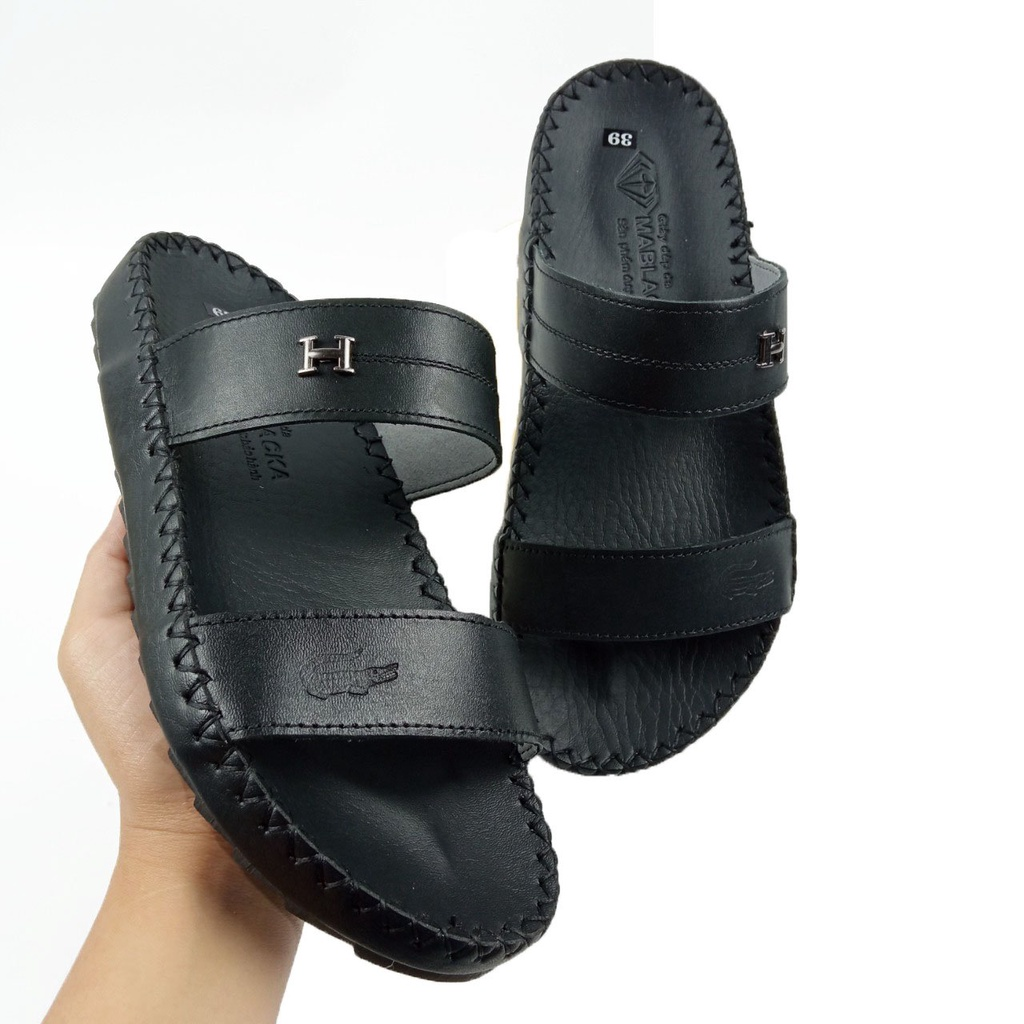sandals: (90, 229, 560, 982), (486, 58, 801, 777)
